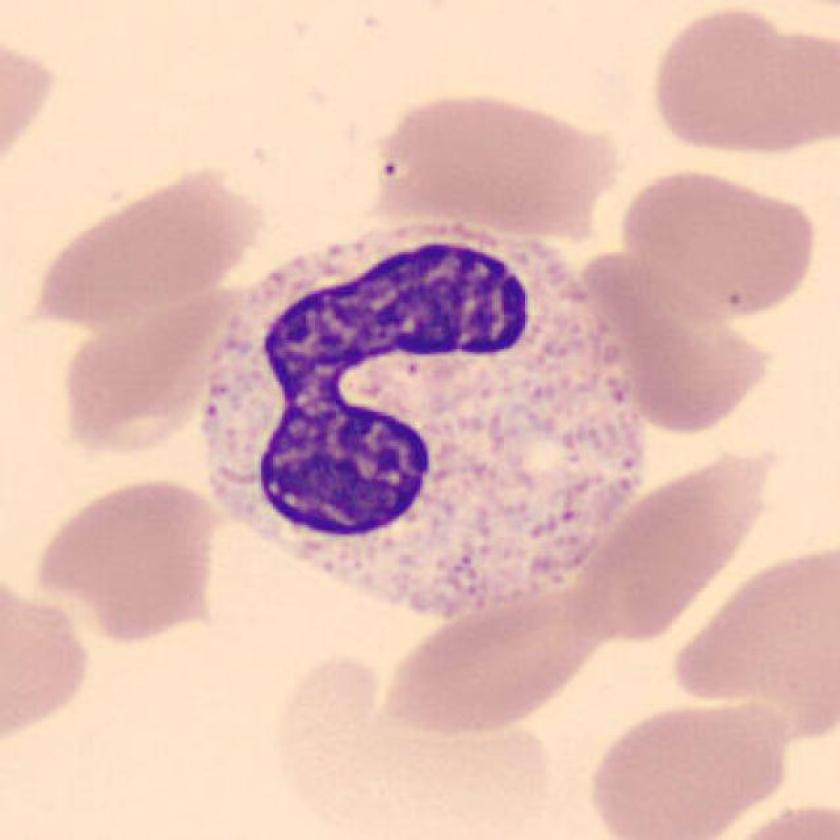neutrophil: (206, 223, 642, 619)
